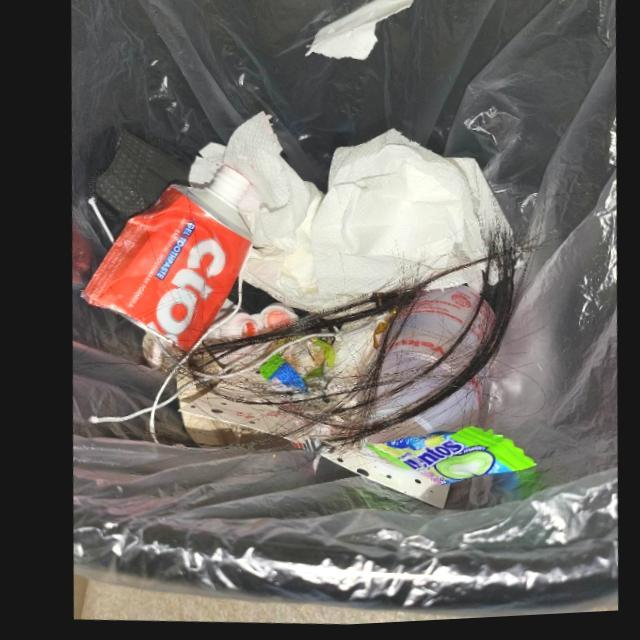paper: (184, 115, 489, 315), (169, 367, 441, 513)
plastic: (77, 168, 247, 356), (349, 290, 489, 450), (201, 303, 297, 369)
wrapper: (356, 431, 528, 490)
